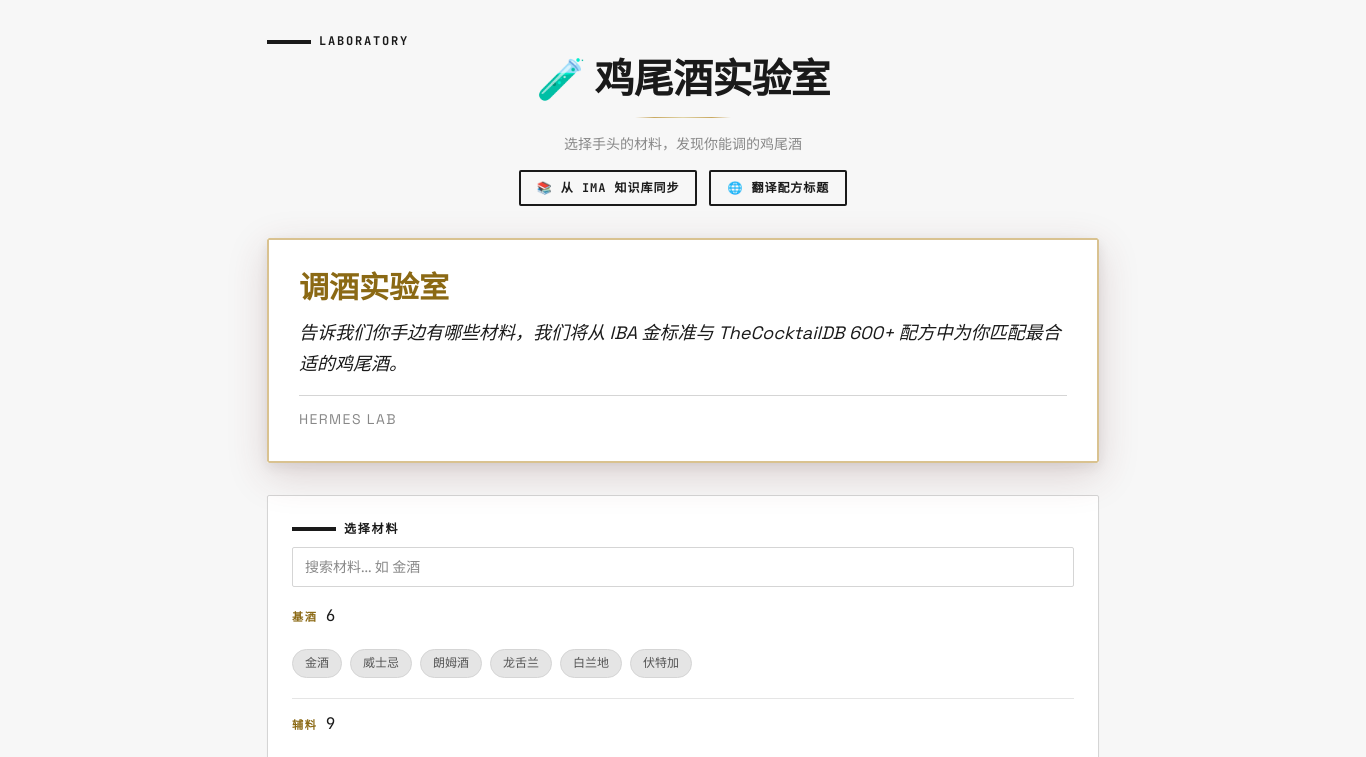
it: LabPanel: P1 翻译配方标题 UI › 入口按钮渲染：点击「翻译配方标题」打开对话框
The image size is (1366, 757).
Click the button with aria-label "翻译英文配方标题为中文" at (778, 188), box x1=709 y1=170 x2=847 y2=206
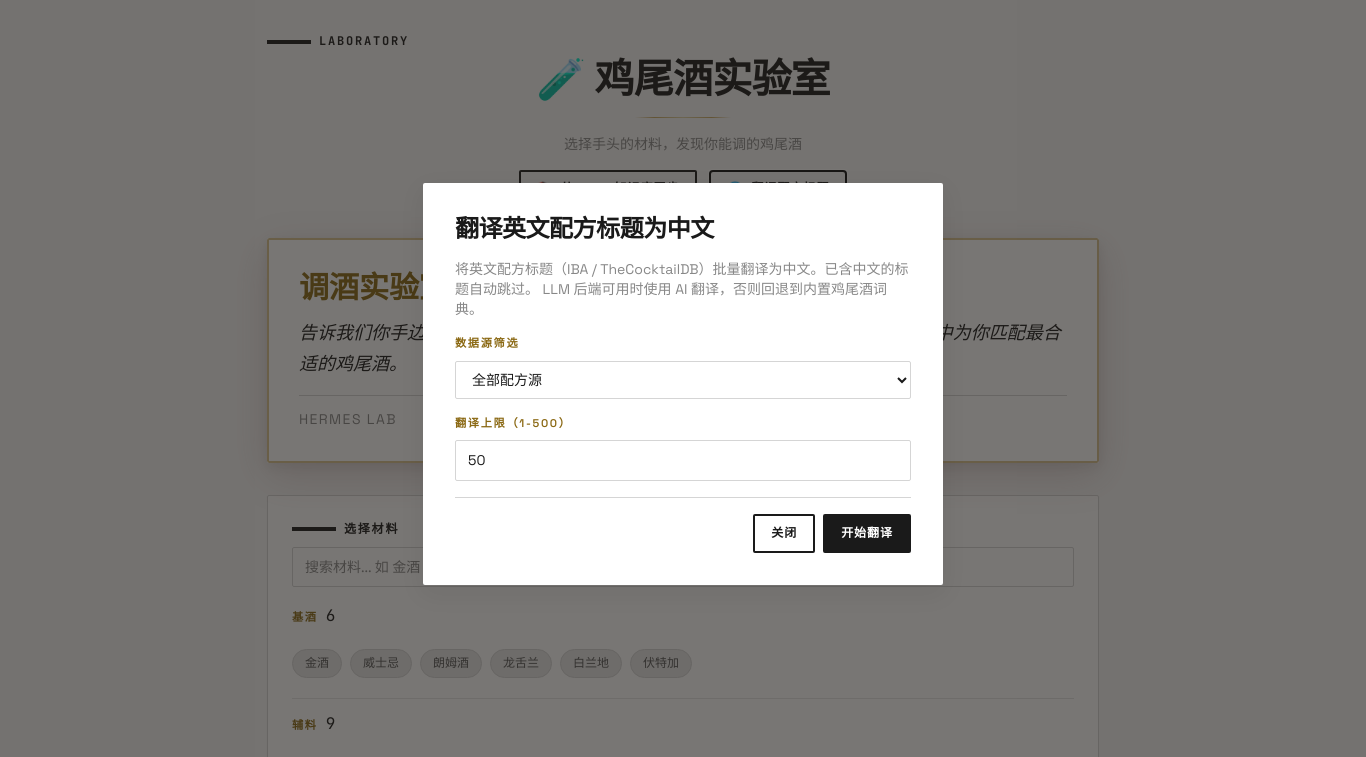
Result: the heading "翻译英文配方标题为中文" is shown at x1=455 y1=213 x2=714 y2=244
Result: the dropdown labelled "数据源筛选" is shown at x1=455 y1=360 x2=911 y2=398
Result: the number field labelled "翻译上限（1-500）" is shown at x1=455 y1=440 x2=911 y2=481
